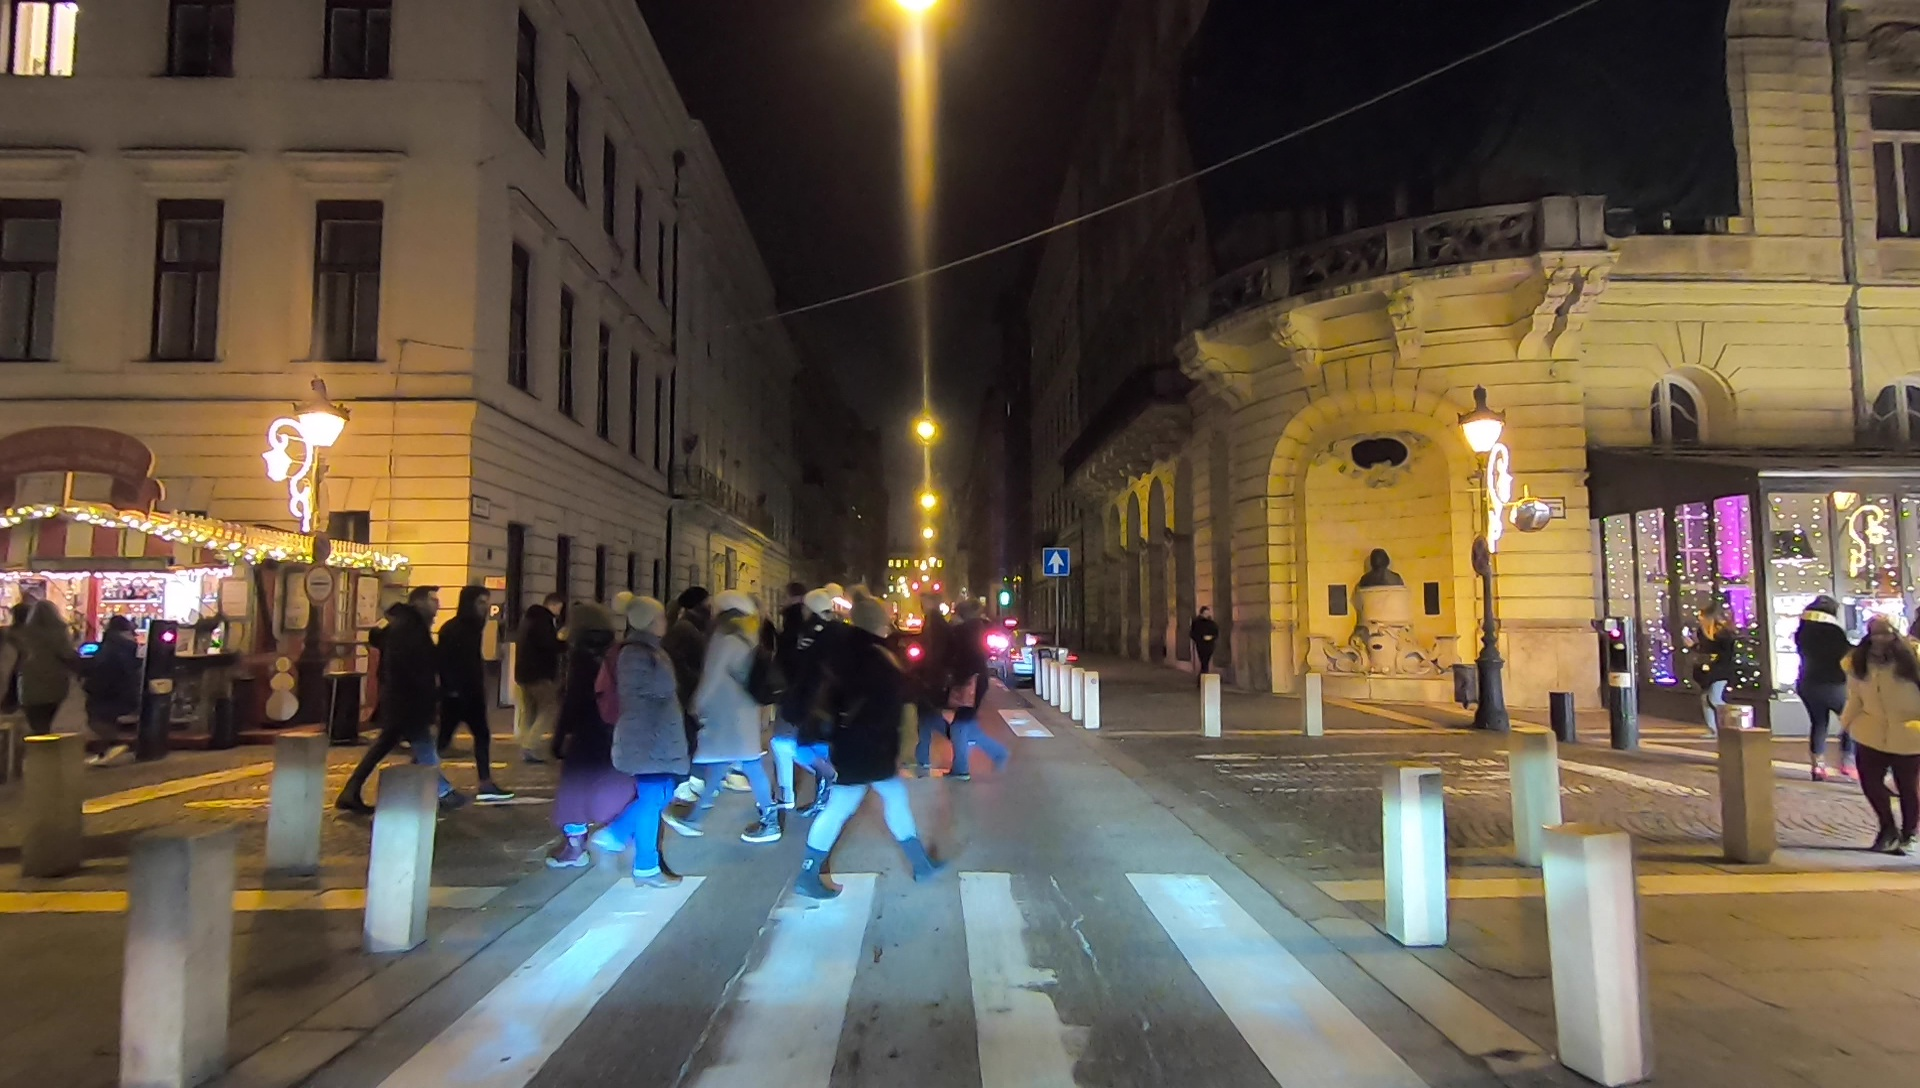person: (799, 608, 936, 904), (688, 593, 789, 865), (614, 599, 684, 897), (556, 599, 623, 895), (364, 582, 445, 815), (1843, 624, 1919, 865), (434, 584, 508, 813), (795, 589, 851, 849), (941, 595, 1010, 795), (1791, 589, 1856, 789), (1, 593, 76, 752), (506, 595, 567, 778), (82, 610, 143, 769), (1686, 610, 1734, 745), (1182, 606, 1225, 689)
